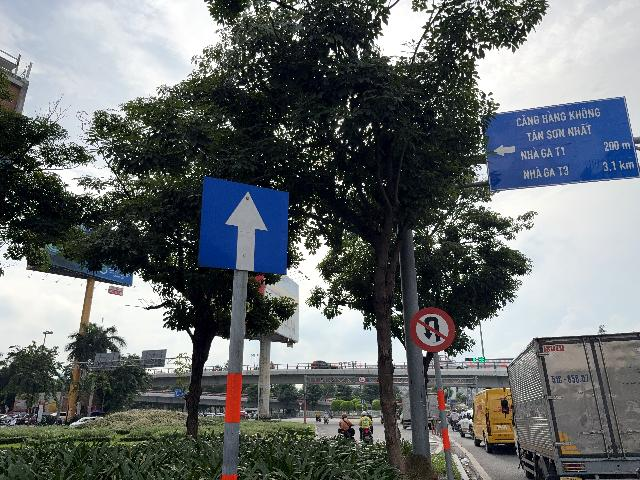cam-quay-dau-xe: (409, 307, 455, 353)
duong-mot-chieu: (197, 175, 289, 275)
